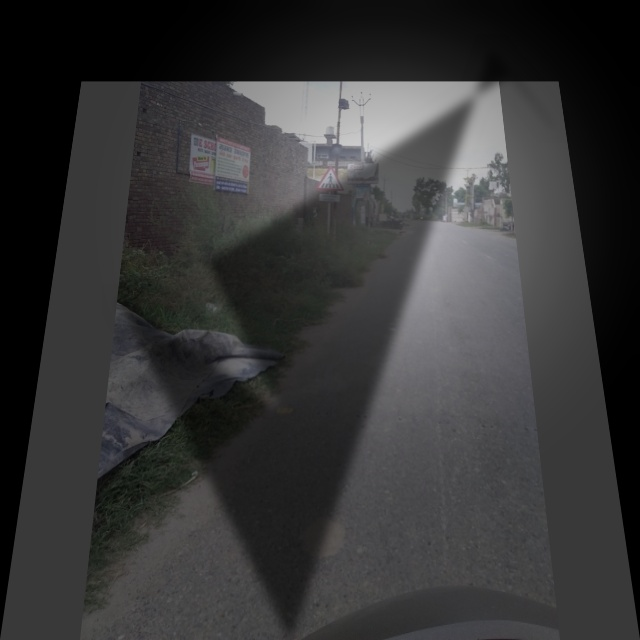Pedestrian_Crossing: (316, 167, 342, 195)
